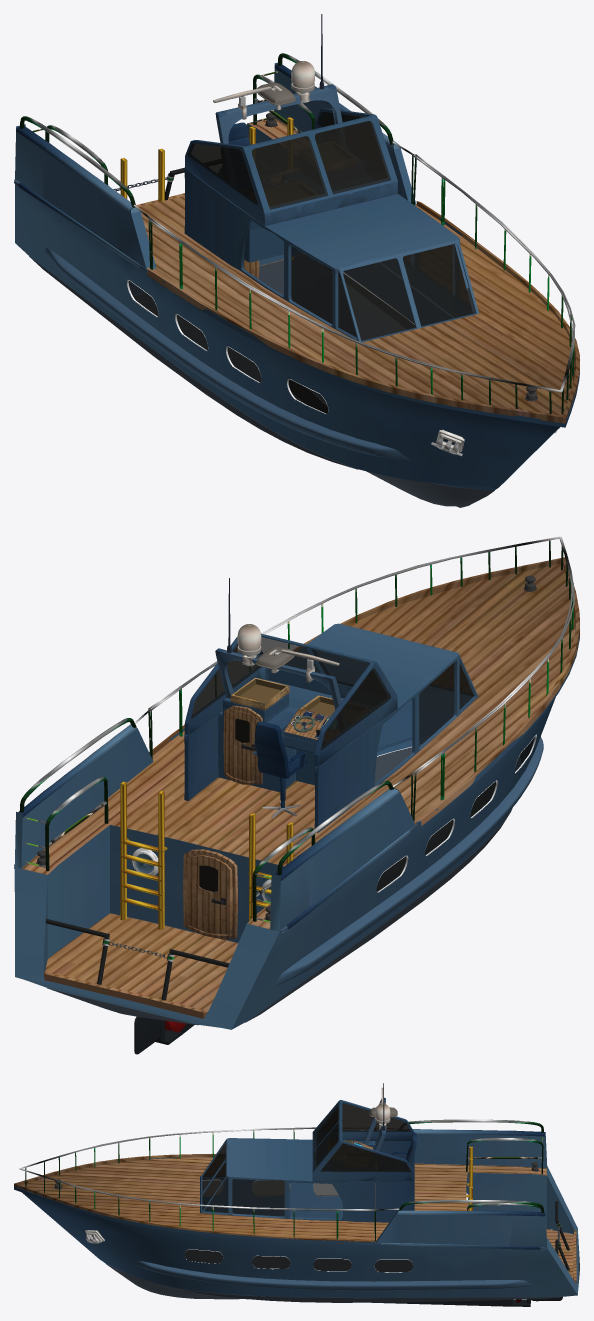
The model's file is motor_boat_iii_empty.glb.
The picture shows the model from 3 angles, top to bottom: view 1: azimuth 30°, elevation 25°; view 2: azimuth 150°, elevation 25°; view 3: azimuth 270°, elevation 25°; orthographic projection. The views are drawn at different scales.
Parts seen in each view (by area): view 1: Object_25, Object_23, Object_14, Object_7, Object_28, Object_38, Object_22; view 2: Object_25, Object_23, Object_28, Object_14, Object_7, Object_22, Object_38, Object_19, Object_24, Object_35, Object_33; view 3: Object_25, Object_23, Object_14, Object_7, Object_28, Object_24, Object_38.
Part boxes in pixels (x1=…): Object_25: x1=14, y1=62, x2=579, y2=490; Object_23: x1=136, y1=118, x2=579, y2=423; Object_14: x1=128, y1=112, x2=479, y2=413; Object_7: x1=29, y1=254, x2=494, y2=507; Object_28: x1=20, y1=53, x2=575, y2=414; Object_38: x1=213, y1=61, x2=314, y2=119; Object_22: x1=120, y1=117, x2=293, y2=259; Object_25: x1=14, y1=607, x2=579, y2=1029; Object_23: x1=22, y1=557, x2=579, y2=1018; Object_28: x1=20, y1=536, x2=574, y2=1000; Object_14: x1=132, y1=637, x2=535, y2=891; Object_7: x1=44, y1=745, x2=512, y2=1025; Object_22: x1=120, y1=781, x2=293, y2=929; Object_38: x1=237, y1=624, x2=339, y2=682; Object_19: x1=230, y1=677, x2=334, y2=715; Object_24: x1=134, y1=1016, x2=194, y2=1054; Object_35: x1=129, y1=734, x2=536, y2=903; Object_33: x1=199, y1=718, x2=249, y2=891; Object_25: x1=14, y1=1098, x2=578, y2=1297; Object_23: x1=14, y1=1140, x2=576, y2=1283; Object_14: x1=184, y1=1103, x2=412, y2=1271; Object_7: x1=106, y1=1230, x2=579, y2=1302; Object_28: x1=19, y1=1119, x2=569, y2=1270; Object_24: x1=258, y1=1296, x2=562, y2=1306; Object_38: x1=369, y1=1087, x2=397, y2=1129.
Bounding box in the file's own units: 5.91 × 7.61 × 16.57.
Materials: 31 (28 with a texture image).
